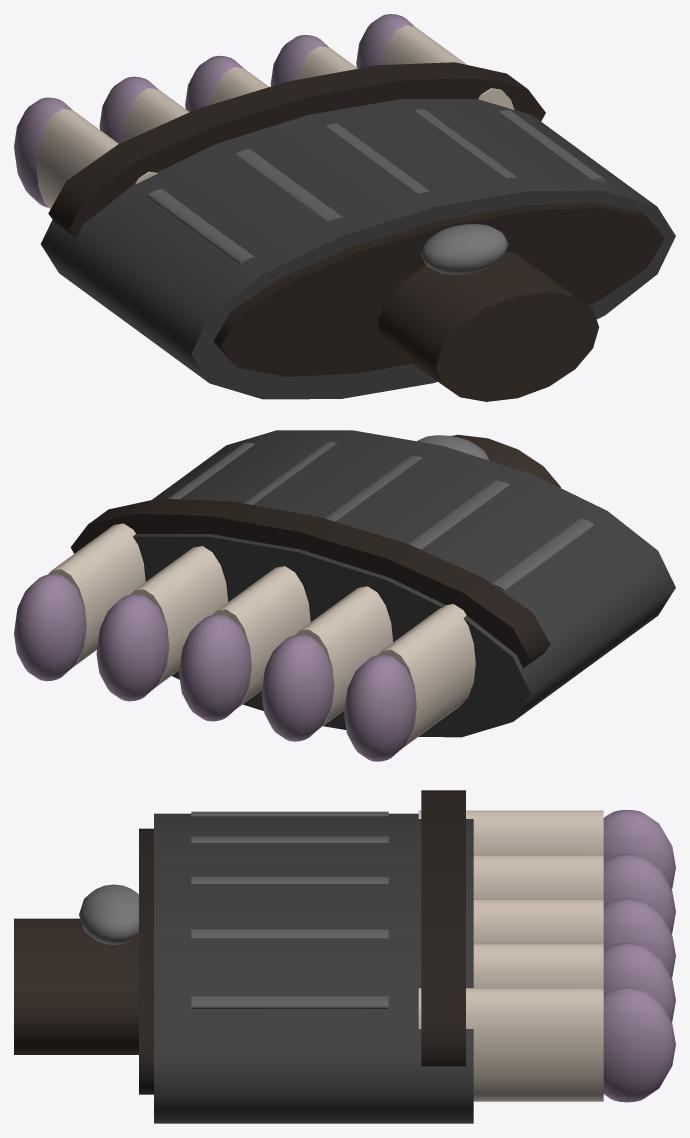
Rendered from CMU3DFieldRMCSpeedLoader357Cloud.glb.
The picture shows the model from 3 angles, top to bottom: view 1: azimuth 30°, elevation 25°; view 2: azimuth 150°, elevation 25°; view 3: azimuth 270°, elevation 25°; orthographic projection. The views are drawn at different scales.
Visible parts, largest first — view 1: round dark speedloader carrier, carrier lower rounded edge, lower release knob, carrier upper rolled rim, exposed pale loaded capsule 1, knob highlight, violet capsule top 1, exposed pale loaded capsule 5, exposed pale loaded capsule 2, carrier vertical rib 1, violet capsule top 2, violet capsule top 3 (+8 smaller); view 2: round dark speedloader carrier, carrier upper rolled rim, exposed pale loaded capsule 1, violet capsule top 3, violet capsule top 4, violet capsule top 1, violet capsule top 2, violet capsule top 5, exposed pale loaded capsule 5, exposed pale loaded capsule 4, exposed pale loaded capsule 2, exposed pale loaded capsule 3 (+7 smaller); view 3: round dark speedloader carrier, lower release knob, exposed pale loaded capsule 5, carrier upper rolled rim, violet capsule top 5, exposed pale loaded capsule 1, exposed pale loaded capsule 3, exposed pale loaded capsule 2, exposed pale loaded capsule 4, carrier lower rounded edge, violet capsule top 2, violet capsule top 3 (+8 smaller).
Boxes of the visible parts, bbox=[...] form: round dark speedloader carrier: bbox=[41, 99, 675, 399]; carrier lower rounded edge: bbox=[213, 202, 664, 376]; lower release knob: bbox=[377, 252, 599, 401]; carrier upper rolled rim: bbox=[48, 62, 545, 238]; exposed pale loaded capsule 1: bbox=[36, 108, 157, 209]; knob highlight: bbox=[421, 224, 508, 274]; violet capsule top 1: bbox=[14, 97, 72, 207]; exposed pale loaded capsule 5: bbox=[380, 25, 514, 109]; exposed pale loaded capsule 2: bbox=[122, 88, 189, 142]; carrier vertical rib 1: bbox=[147, 189, 254, 264]; violet capsule top 2: bbox=[99, 76, 157, 143]; violet capsule top 3: bbox=[185, 55, 243, 111]; round dark speedloader carrier: bbox=[133, 430, 675, 737]; carrier upper rolled rim: bbox=[70, 498, 550, 668]; exposed pale loaded capsule 1: bbox=[378, 604, 475, 748]; violet capsule top 3: bbox=[179, 614, 251, 721]; violet capsule top 4: bbox=[96, 594, 168, 701]; violet capsule top 1: bbox=[344, 654, 416, 761]; violet capsule top 2: bbox=[261, 634, 333, 741]; violet capsule top 5: bbox=[14, 574, 86, 681]; exposed pale loaded capsule 5: bbox=[48, 523, 145, 668]; exposed pale loaded capsule 4: bbox=[130, 546, 227, 688]; exposed pale loaded capsule 2: bbox=[295, 586, 393, 728]; exposed pale loaded capsule 3: bbox=[213, 566, 310, 708]; round dark speedloader carrier: bbox=[154, 813, 473, 1123]; lower release knob: bbox=[14, 918, 138, 1054]; exposed pale loaded capsule 5: bbox=[418, 988, 603, 1101]; carrier upper rolled rim: bbox=[421, 790, 465, 1066]; violet capsule top 5: bbox=[603, 987, 675, 1102]; exposed pale loaded capsule 1: bbox=[418, 810, 603, 854]; exposed pale loaded capsule 3: bbox=[473, 899, 603, 943]; exposed pale loaded capsule 2: bbox=[473, 855, 603, 899]; exposed pale loaded capsule 4: bbox=[473, 943, 603, 987]; carrier lower rounded edge: bbox=[139, 828, 153, 1094]; violet capsule top 2: bbox=[603, 854, 675, 933]; violet capsule top 3: bbox=[603, 898, 675, 977].
Bounding box in the file's own units: 0.3719 × 0.142 × 0.4141.
